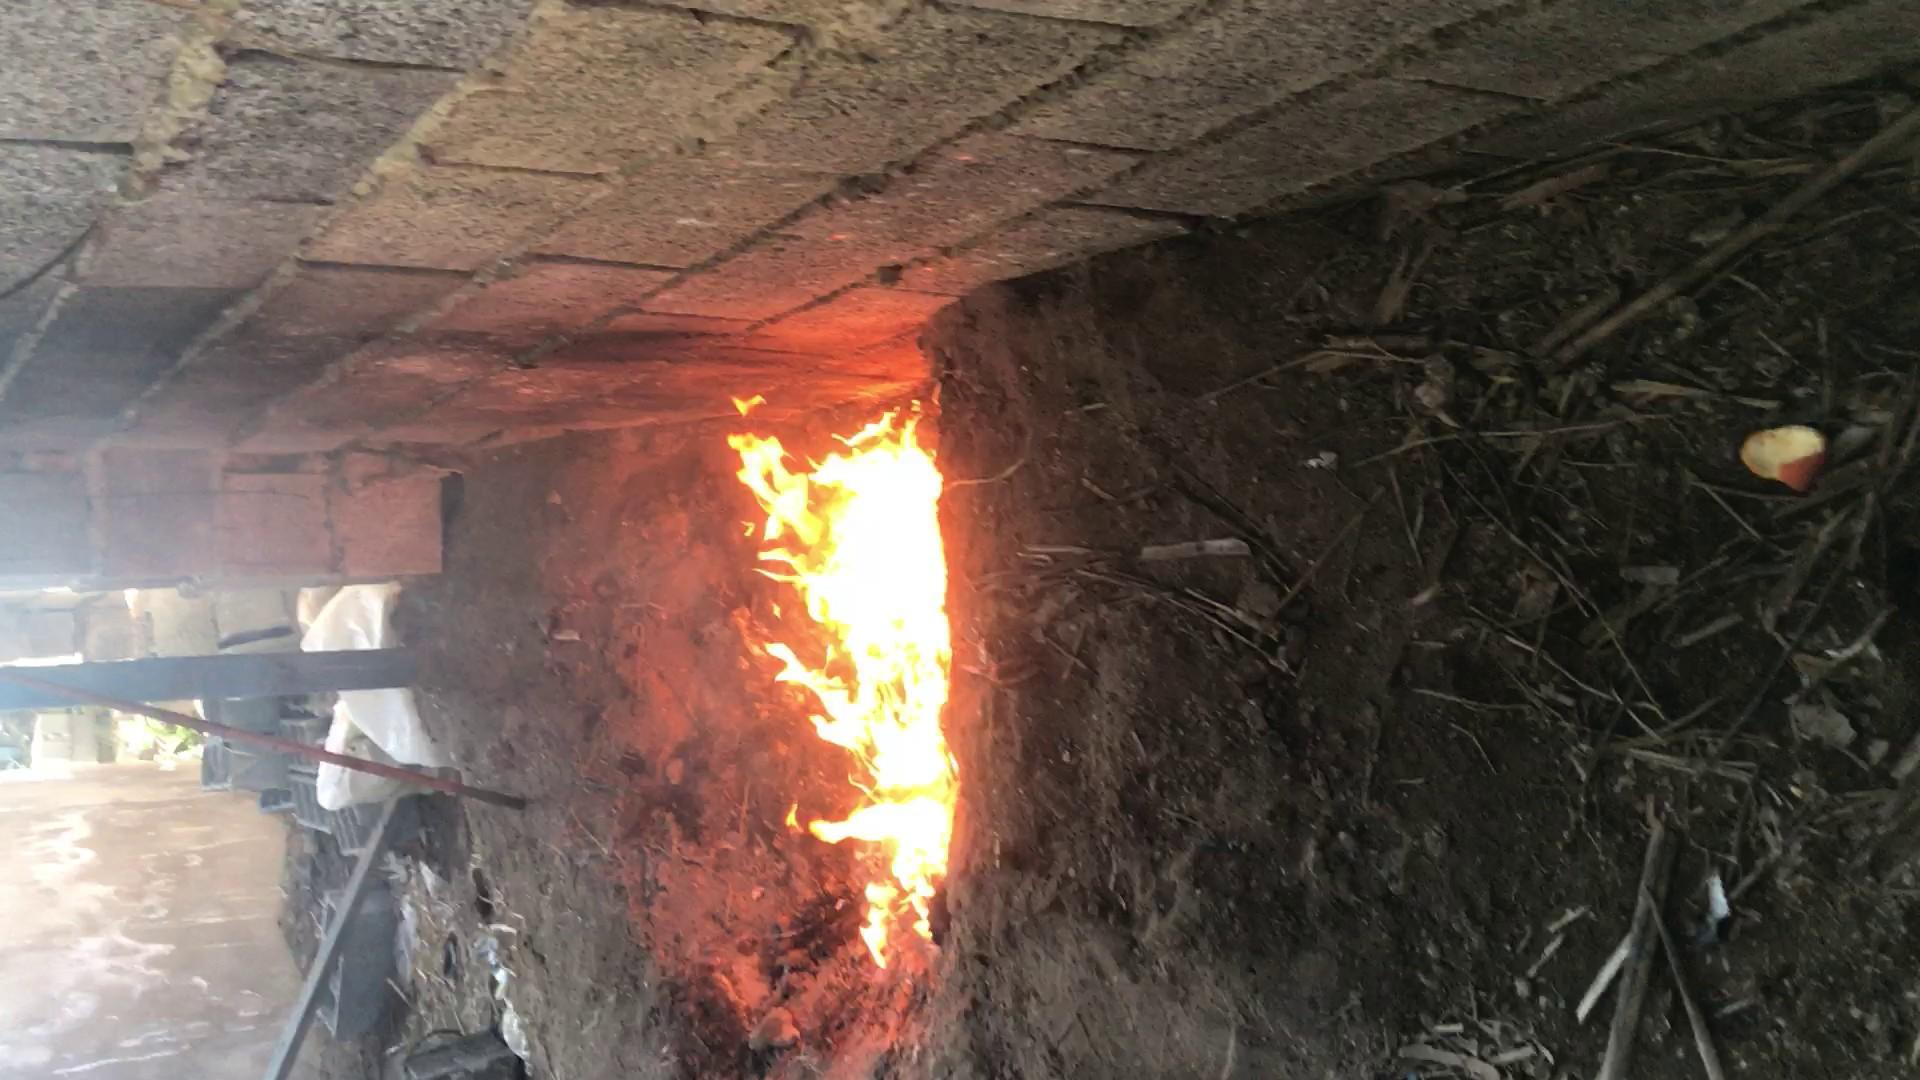fire: (276, 388, 1400, 574)
